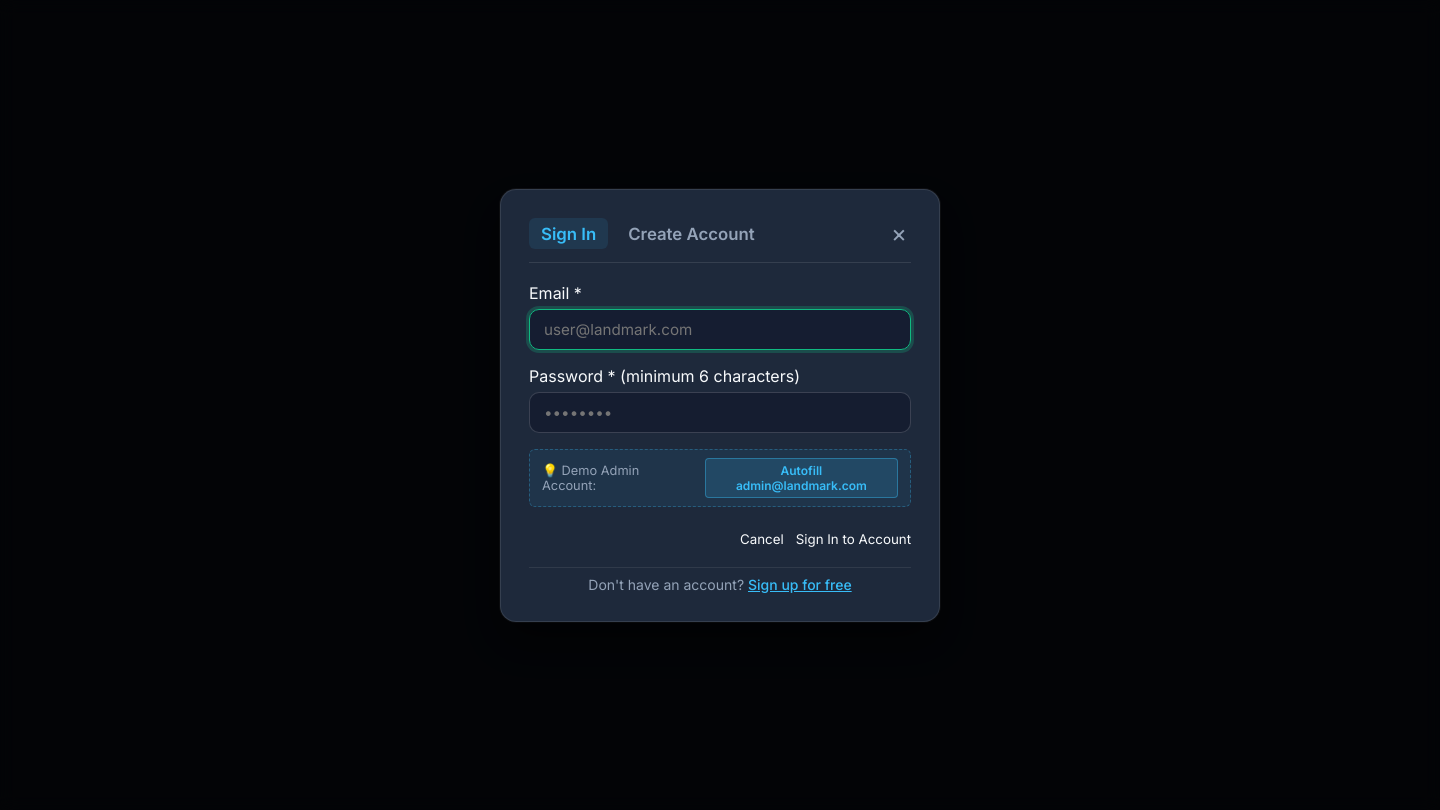
AuthModal Component › validates password length on registration tab
Note: Switch to register
Step 1. Click the button "Create Account" → (691, 234), box [616, 218, 767, 249]
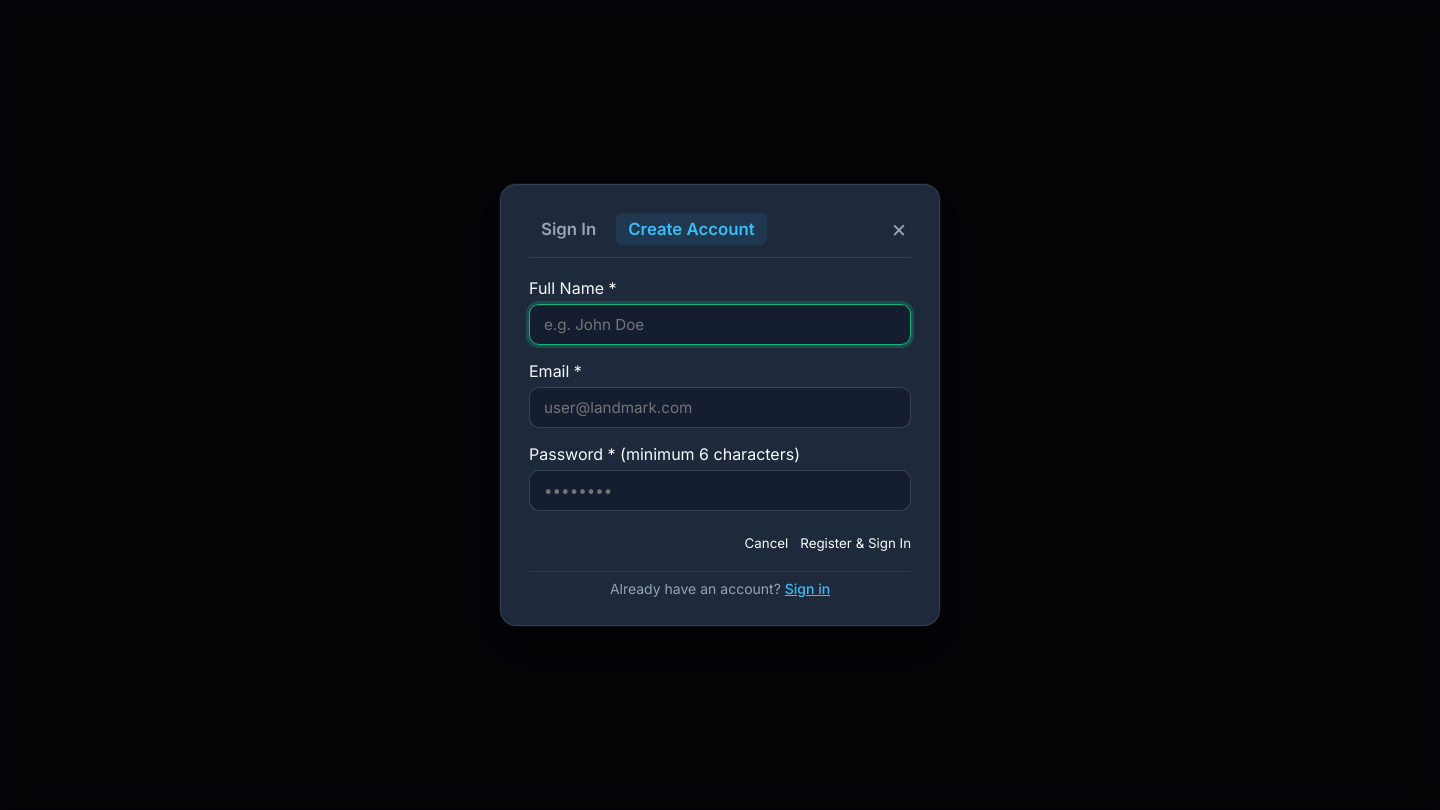
Step 2. Type "Ana" into the field labelled "Full Name *" → (720, 324), box [529, 304, 911, 345]
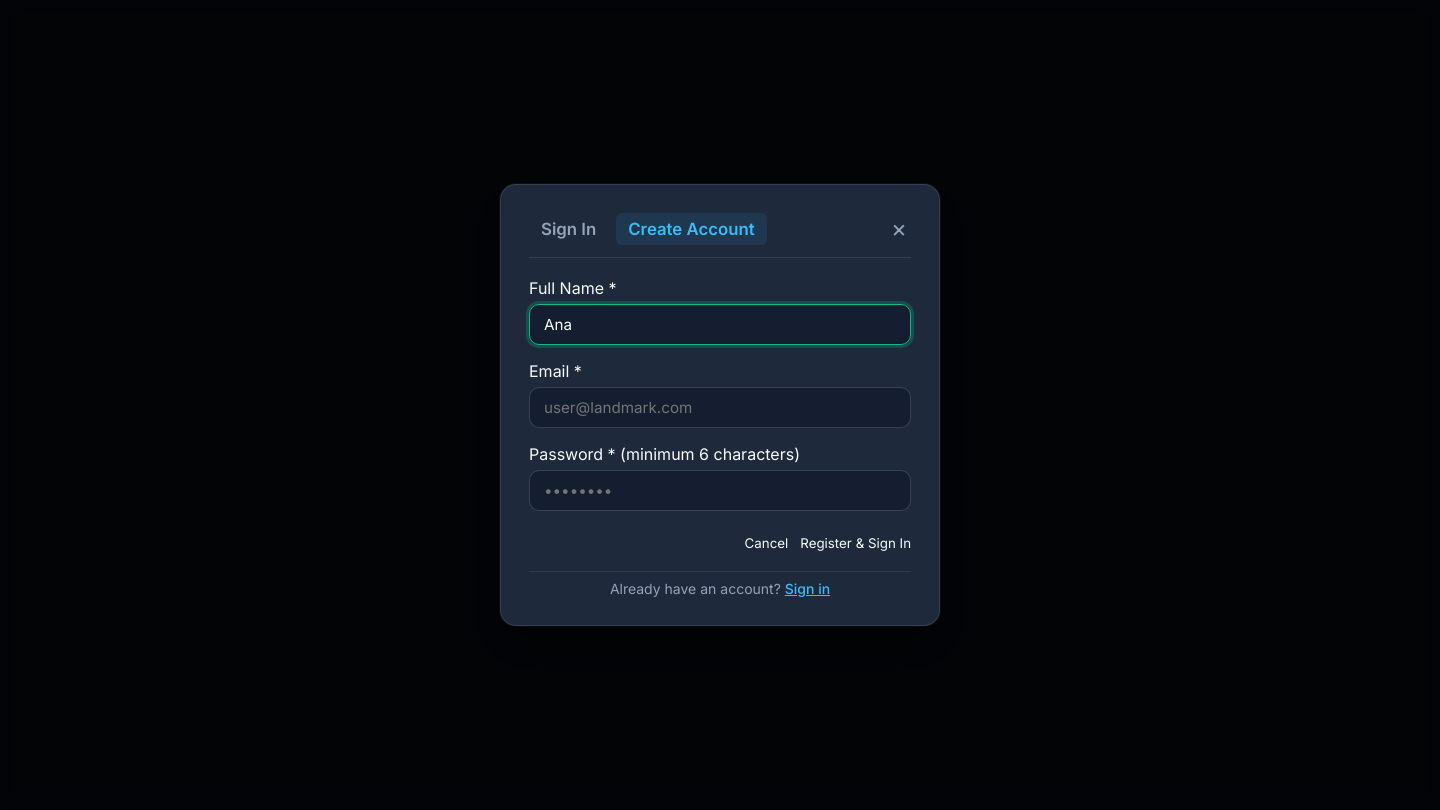
Step 3. Type "ana@landmark.com" into the field labelled "Email *" → (720, 408), box [529, 387, 911, 428]
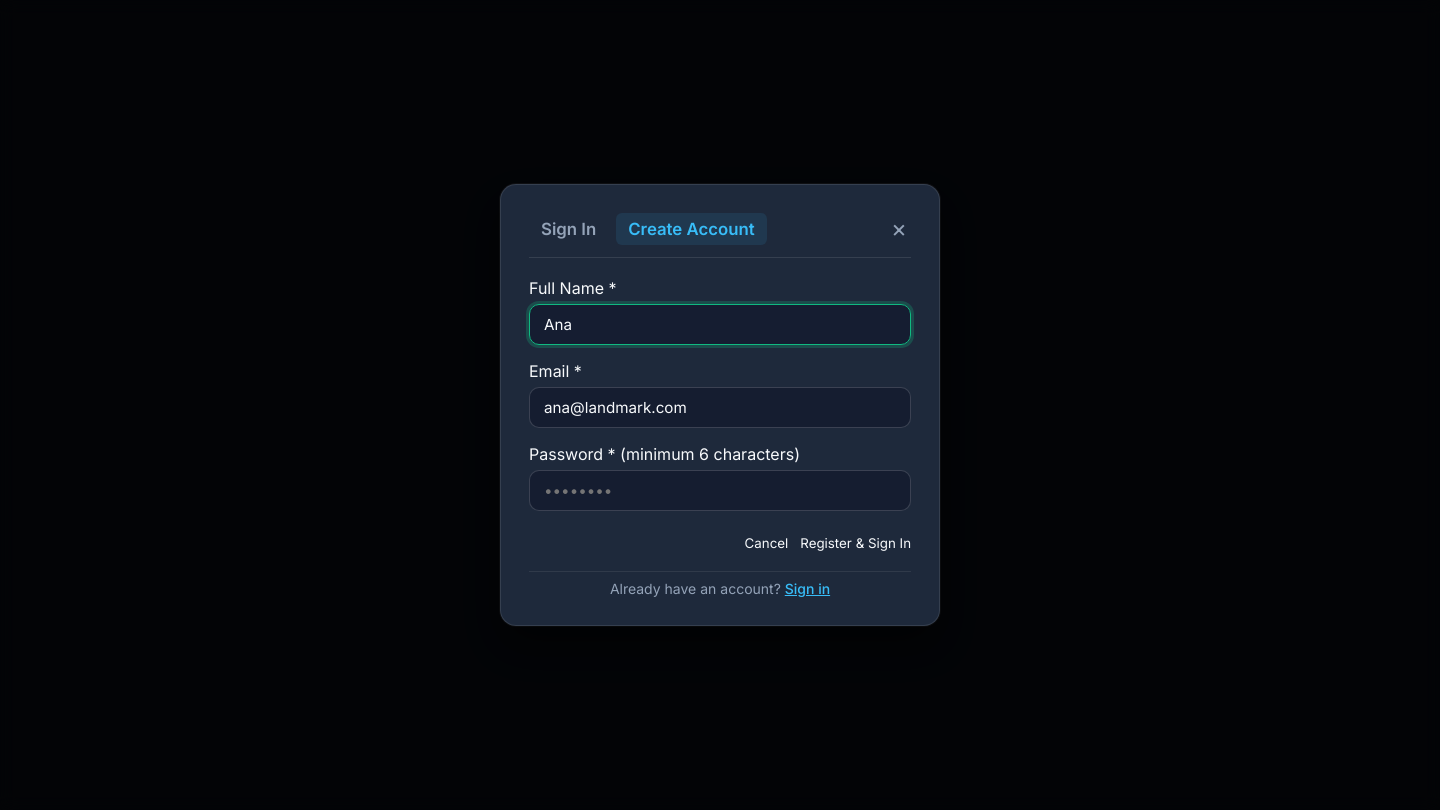
Step 4. Type "123" into the password field labelled "Password * (minimum 6 characters)" → (720, 490), box [529, 470, 911, 511]
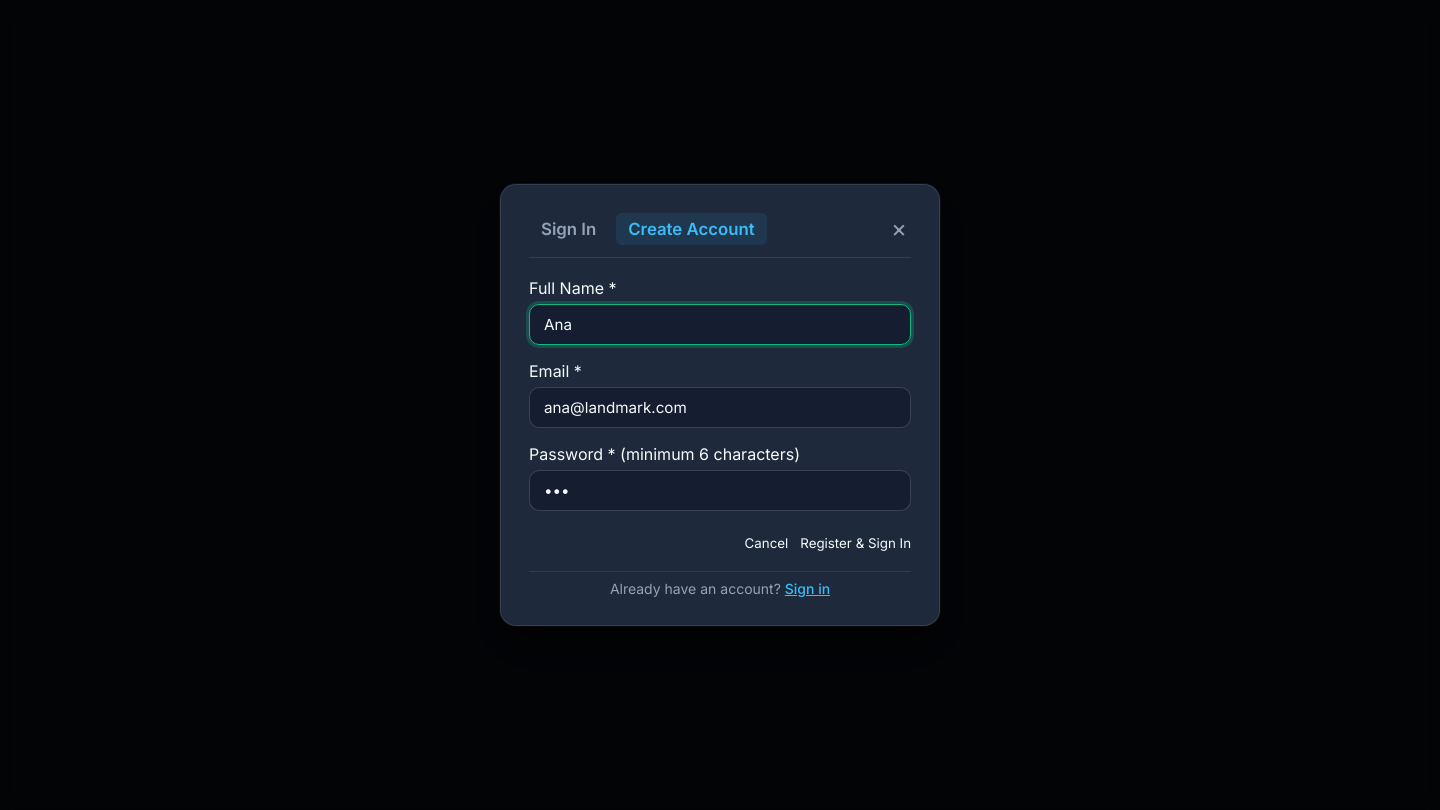
Step 5. Click the button "Register & Sign In" → (856, 543), box [800, 535, 911, 551]
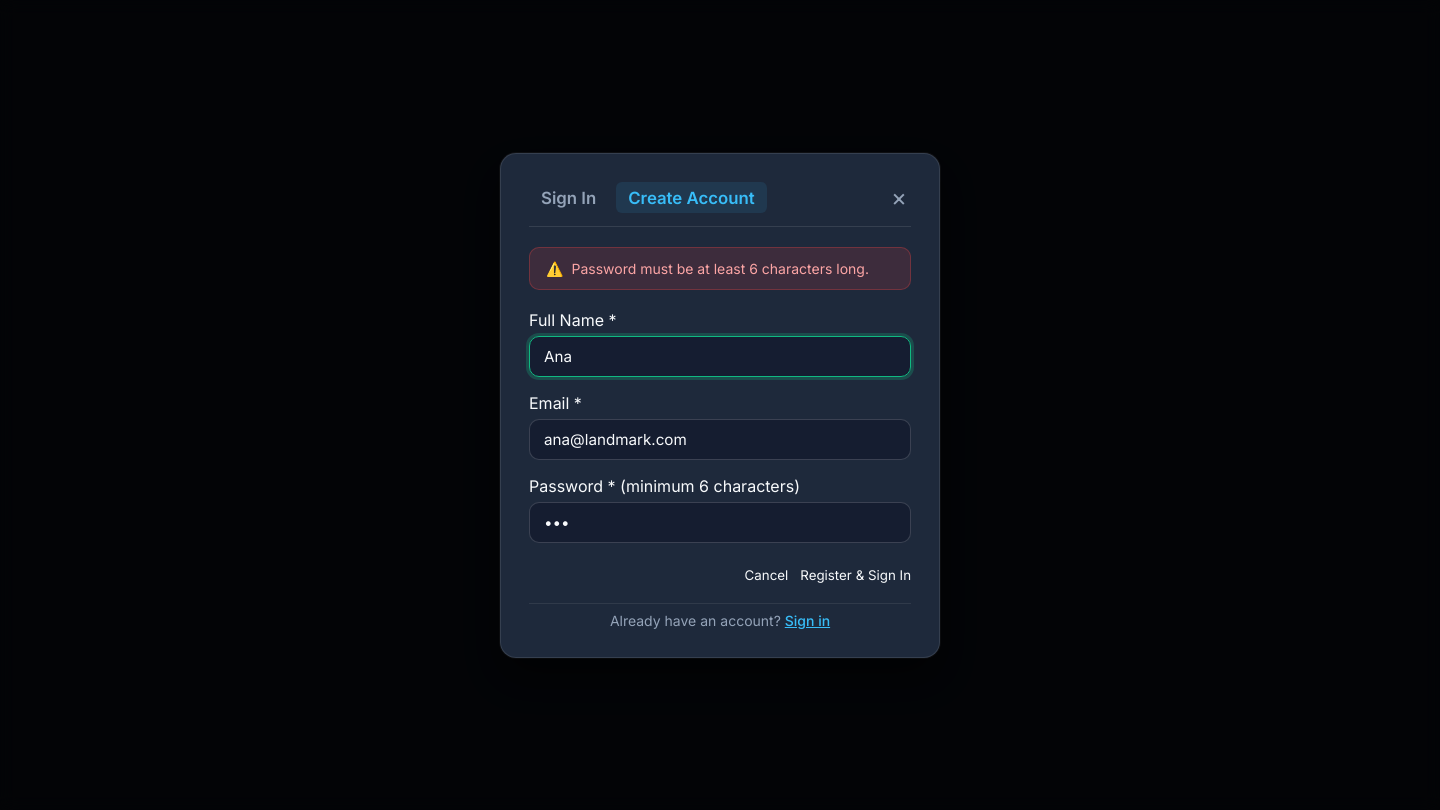
Check: the message shows "6 characters", box [572, 260, 869, 276]
